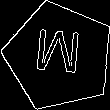M_S: (33, 29, 85, 84)
